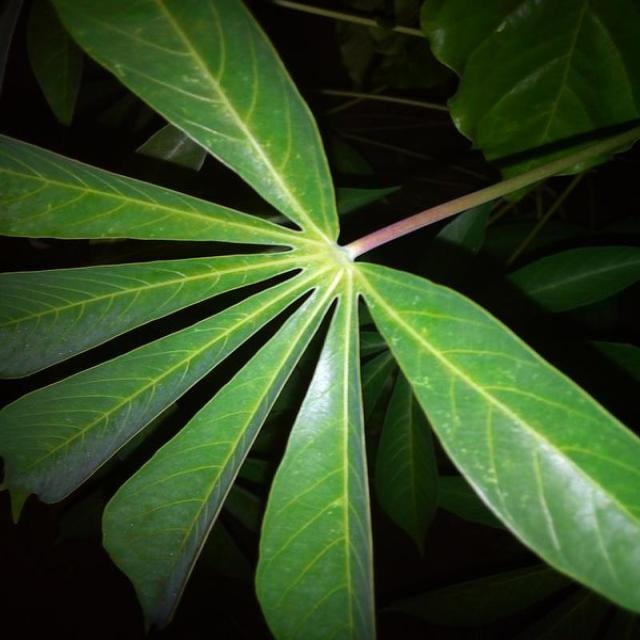cassava leaf: (0, 0, 638, 637), (354, 258, 639, 613)
